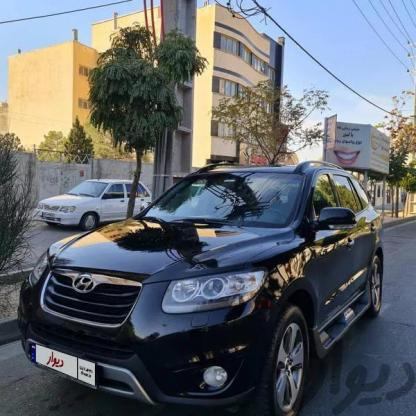Car: (14, 162, 391, 416), (38, 176, 154, 233)
